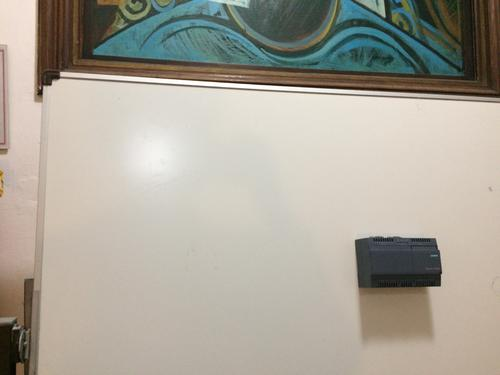iot2000: (355, 236, 443, 291)
